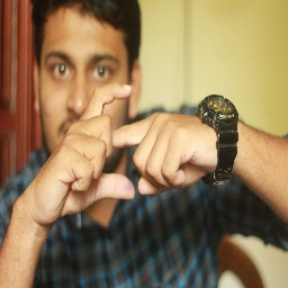E: (73, 81, 159, 205)
